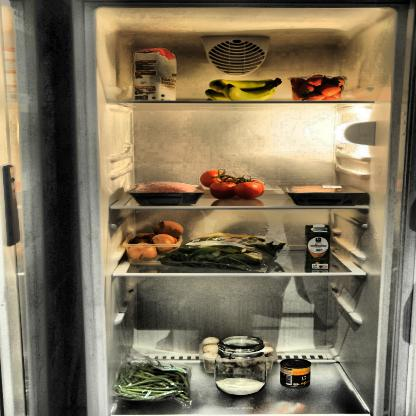banana: (202, 76, 281, 103)
beef: (289, 183, 362, 193)
corn: (280, 358, 318, 390)
green_beans: (113, 363, 195, 407)
ground_beef: (130, 179, 200, 207)
heavy_cream: (304, 224, 334, 272)
mushrooms: (195, 336, 276, 374)
onion: (128, 219, 184, 265)
spinach: (162, 229, 288, 273)
strawberries: (286, 73, 348, 102)
tomato: (198, 168, 266, 198)
